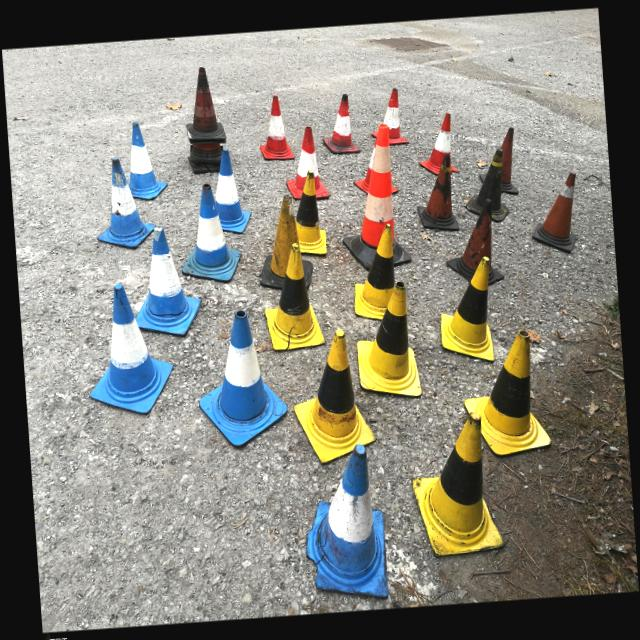blue_cone: (298, 442, 388, 604), (193, 306, 289, 448), (82, 280, 176, 417), (128, 224, 204, 339), (175, 182, 242, 284), (91, 155, 158, 250), (124, 120, 168, 202), (211, 147, 252, 234)
large_orange_cone: (334, 122, 411, 270)
orange_cone: (282, 125, 330, 200), (350, 132, 398, 196), (416, 112, 460, 176), (318, 92, 361, 154), (256, 93, 294, 161), (368, 88, 408, 146)
unknown_cone: (253, 192, 314, 292), (442, 198, 504, 286), (528, 172, 580, 254), (462, 147, 509, 223), (414, 154, 459, 232), (181, 66, 226, 142), (476, 127, 518, 197)
yellow_cone: (406, 410, 504, 556), (288, 327, 378, 465), (459, 327, 552, 457), (352, 280, 422, 400), (259, 241, 325, 351), (435, 256, 496, 364), (348, 223, 398, 321), (292, 169, 328, 256)
